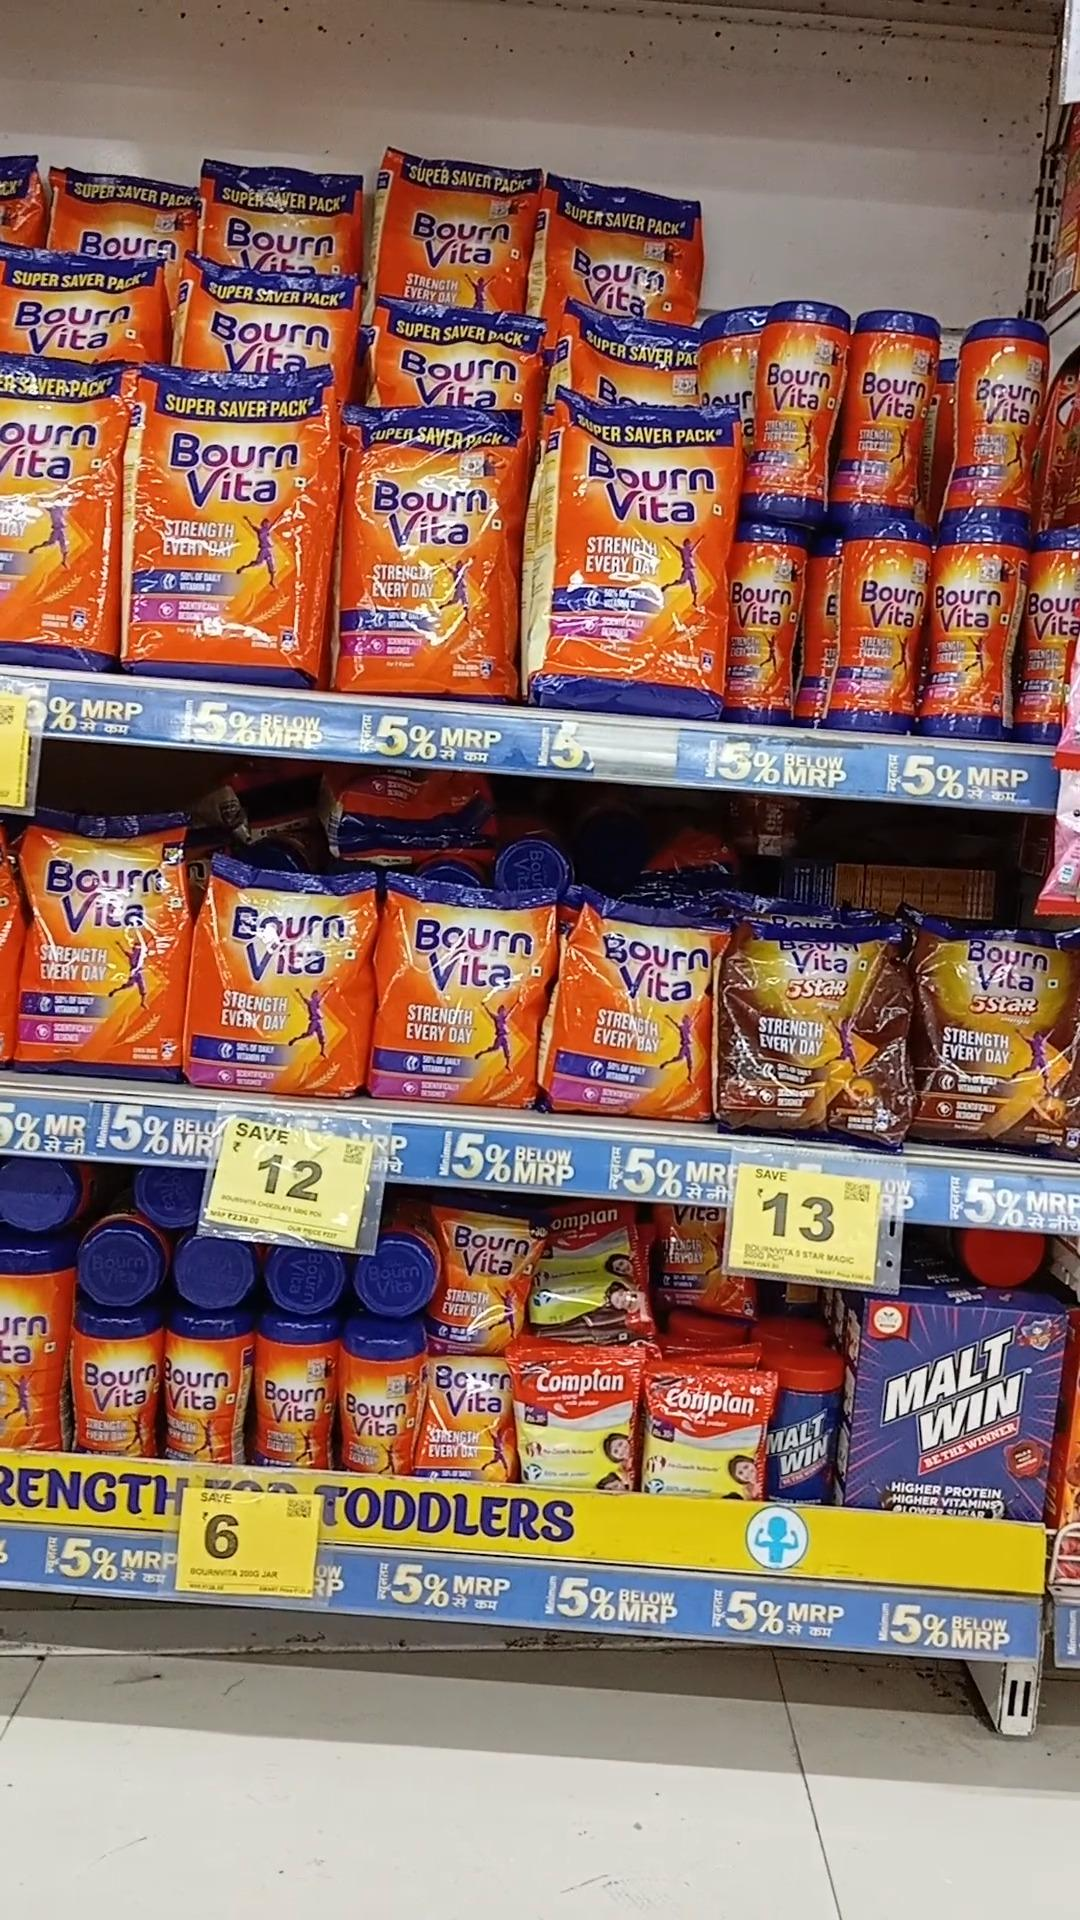BOURN_VITA_1_KG_POUCH: (124, 371, 336, 675), (542, 394, 713, 713), (342, 409, 516, 703), (0, 356, 120, 667)
BOURN_VITA_200_G_JAR: (256, 1317, 336, 1470), (80, 1308, 158, 1457), (345, 1316, 419, 1473), (167, 1313, 243, 1465)
BOURN_VITA_500_G_JAR: (928, 524, 1022, 735), (831, 524, 922, 737), (744, 298, 832, 514), (944, 319, 1035, 520), (839, 307, 926, 516), (725, 521, 798, 725)
BOURN_VITA_500_G_POUCH: (183, 862, 377, 1101), (21, 811, 181, 1083), (381, 880, 550, 1109), (554, 894, 711, 1124)
BOURN_VITA_75_G_POUCH: (435, 1207, 534, 1345), (421, 1356, 513, 1480)
BOURN_VITA_FIVE_STAR_MAGIC_500_G_POUCH: (711, 918, 909, 1145), (911, 923, 1080, 1154)
